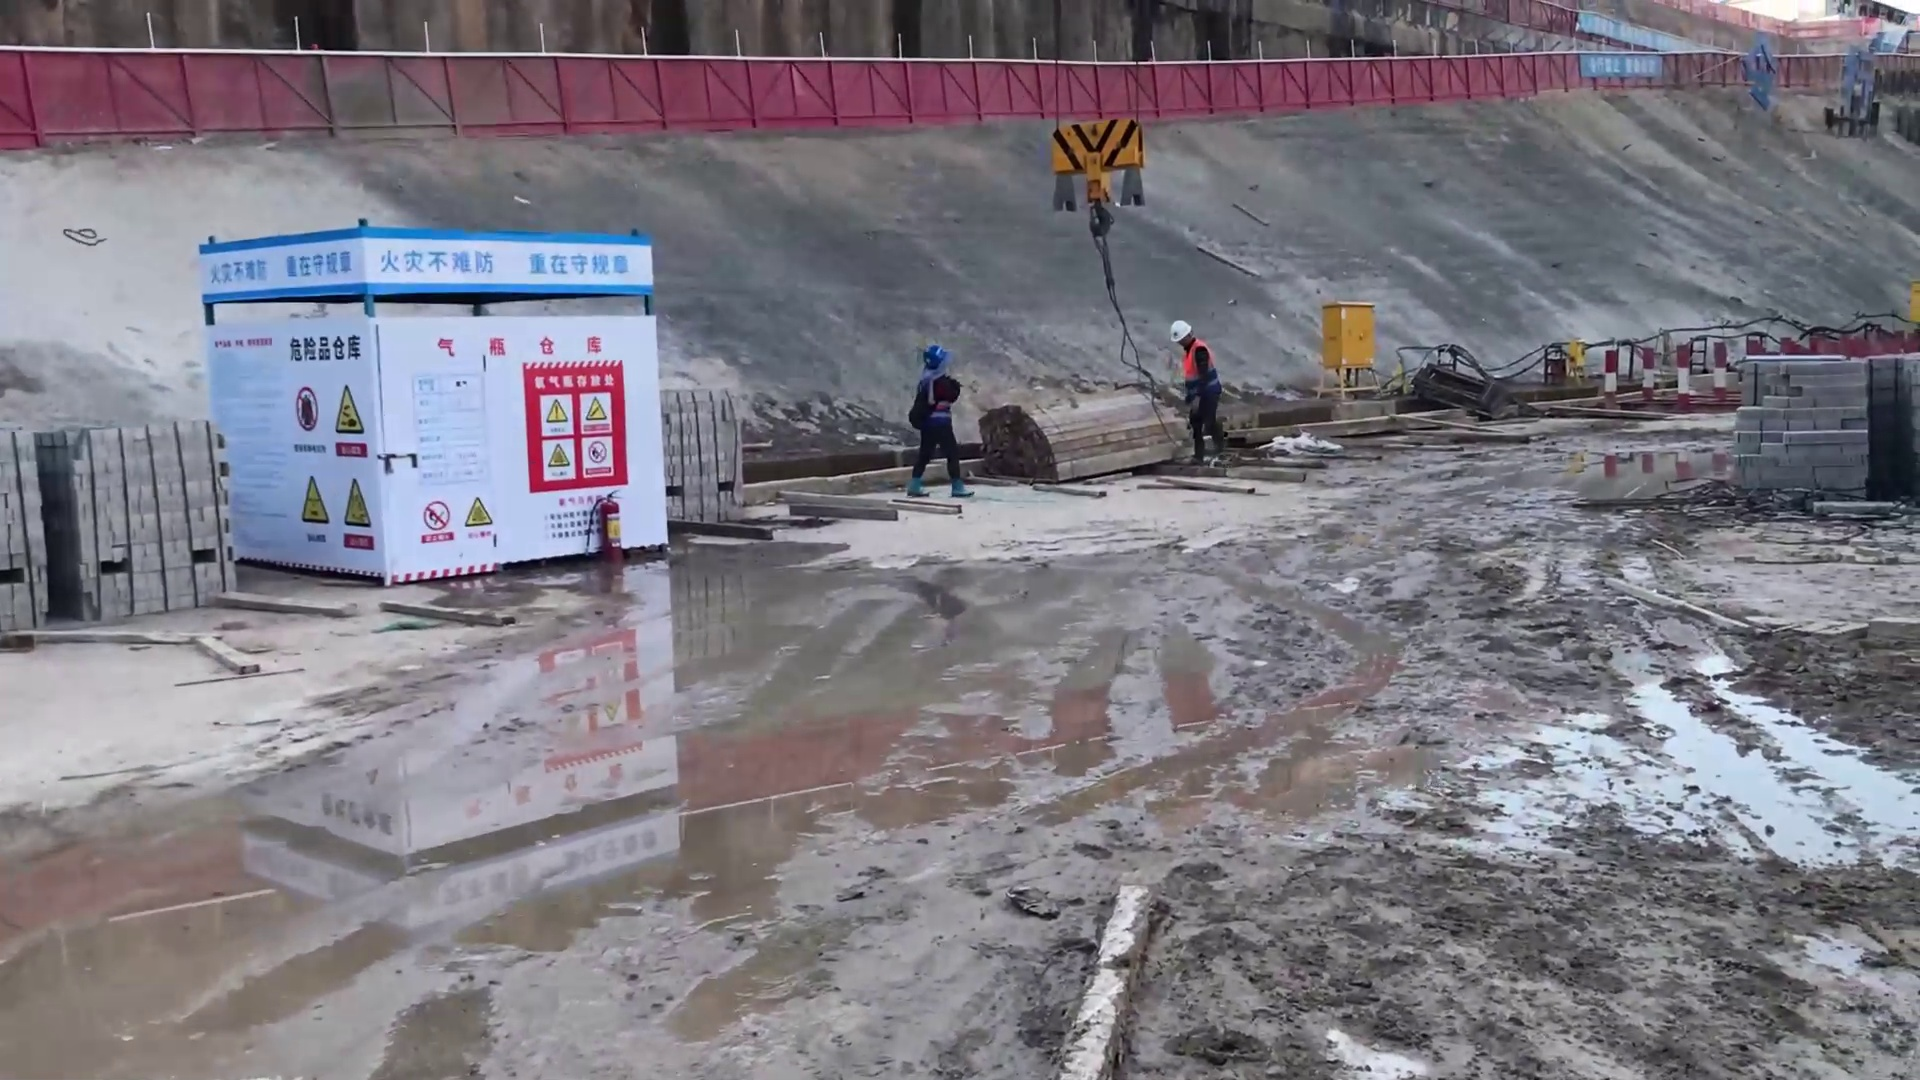brick: (3, 394, 275, 631), (1707, 339, 1920, 525), (659, 363, 778, 544)
ebox: (1300, 279, 1414, 400)
fence: (7, 22, 1573, 135)
helmet: (913, 345, 947, 370), (1163, 320, 1192, 344)
hook: (1030, 100, 1206, 270)
person: (1165, 316, 1230, 467), (908, 342, 971, 500)
slogan: (371, 229, 654, 309), (287, 371, 380, 545), (191, 238, 371, 298), (532, 393, 632, 482), (414, 480, 513, 553)
vest: (1175, 346, 1215, 394), (917, 376, 950, 426)
wood: (963, 387, 1148, 498)
